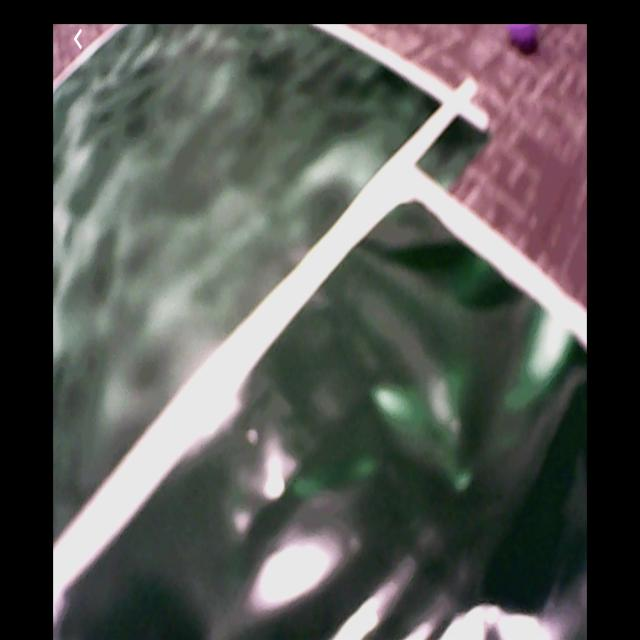ball: (509, 24, 540, 56)
